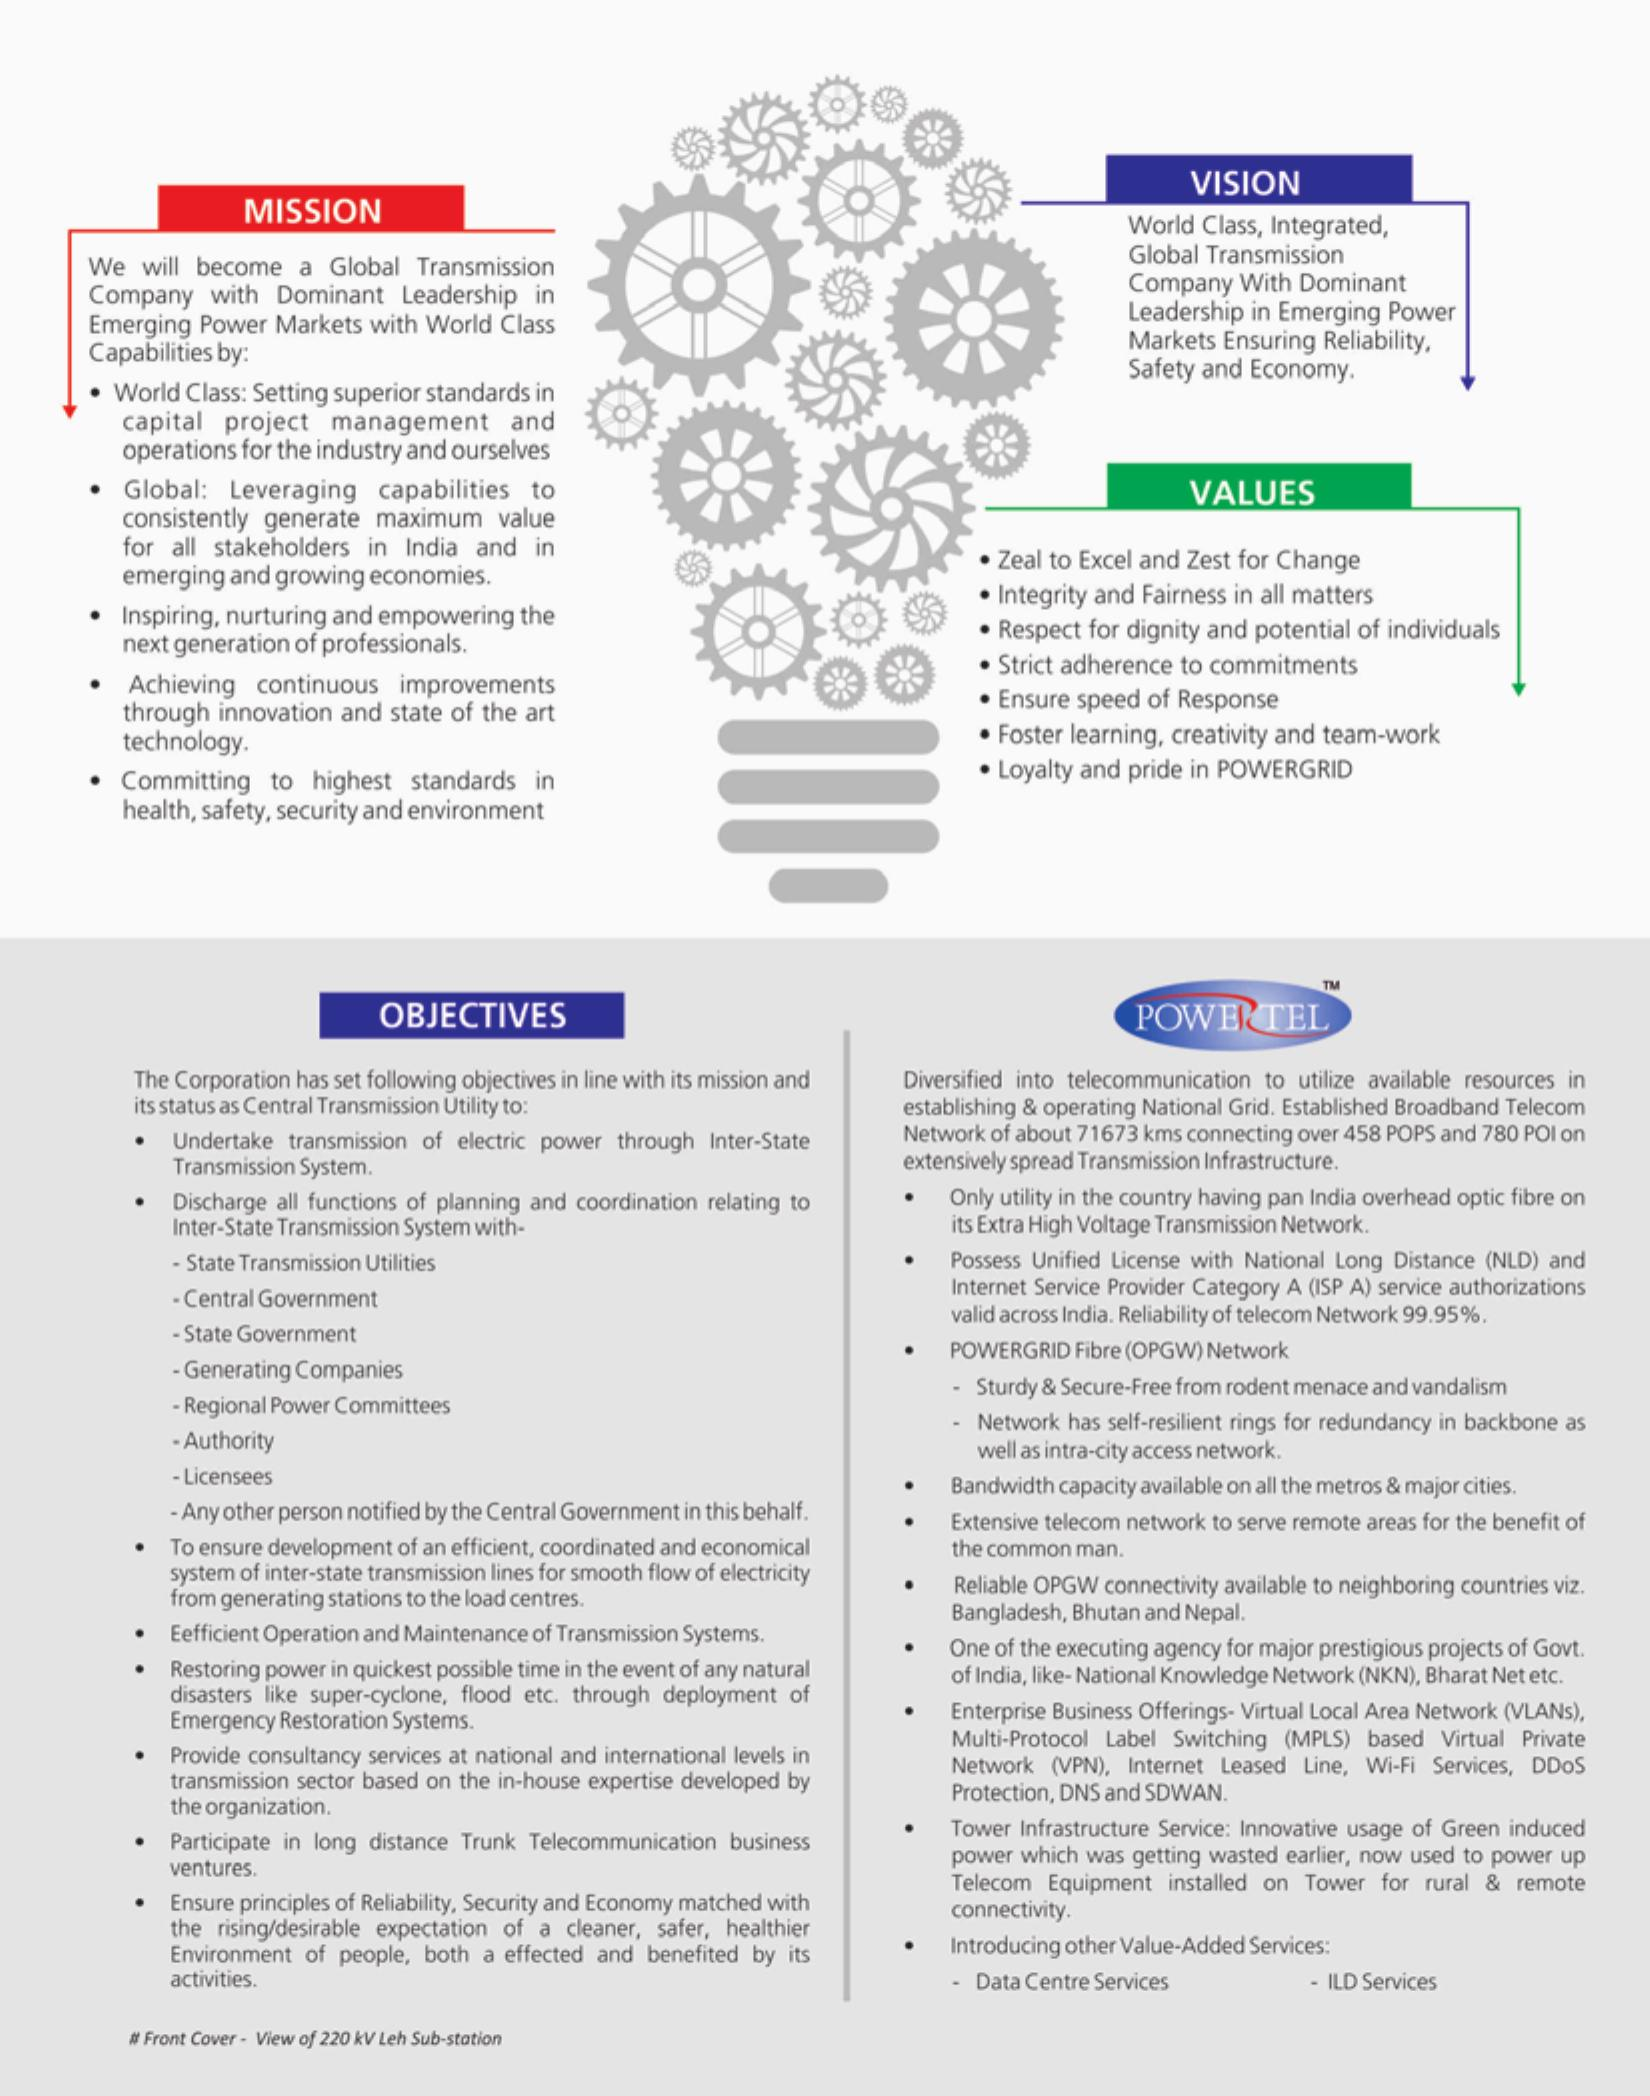Footer: (3, 2014, 1650, 2096)
Image: (0, 0, 1650, 2006)
